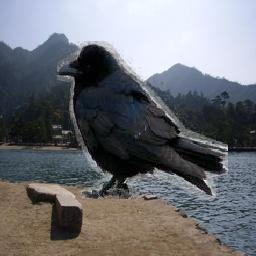Crow: (58, 41, 229, 199)
